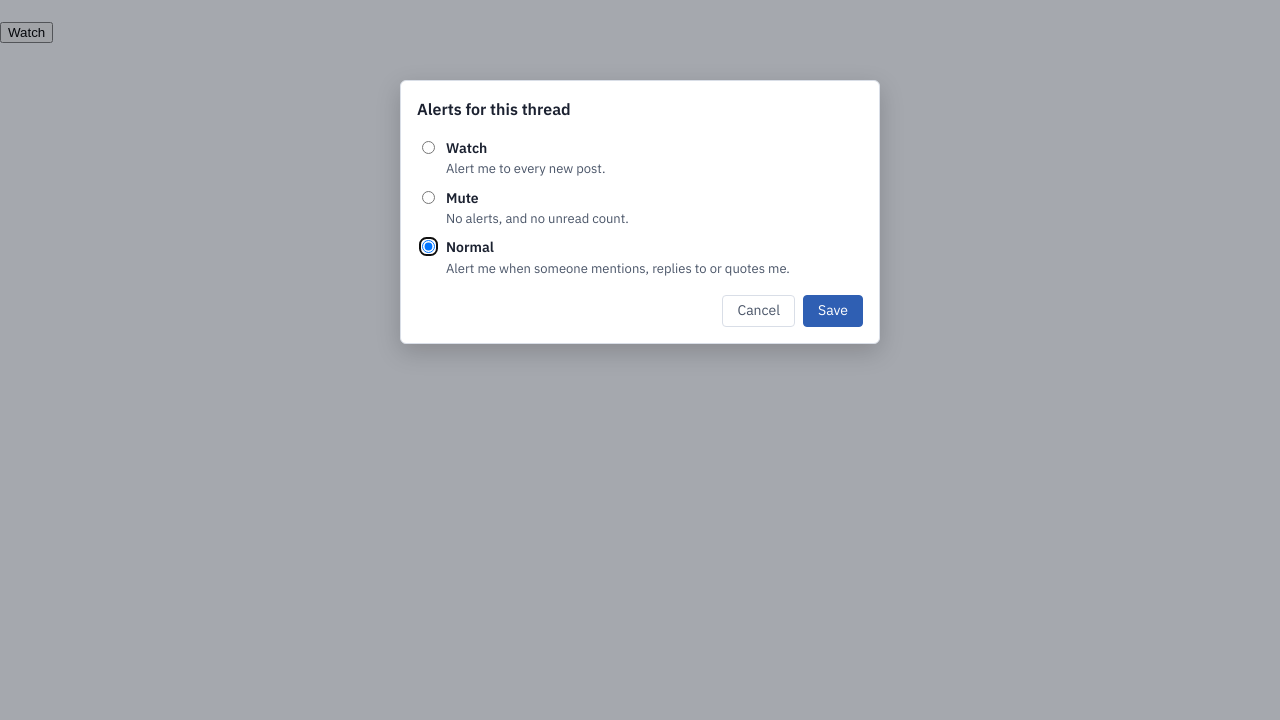
the watch dialog › shows a refusal and stays open as chosen
Click the radio button labelled "Watch Alert me to every new post.": click(428, 147) [422,141,435,154]
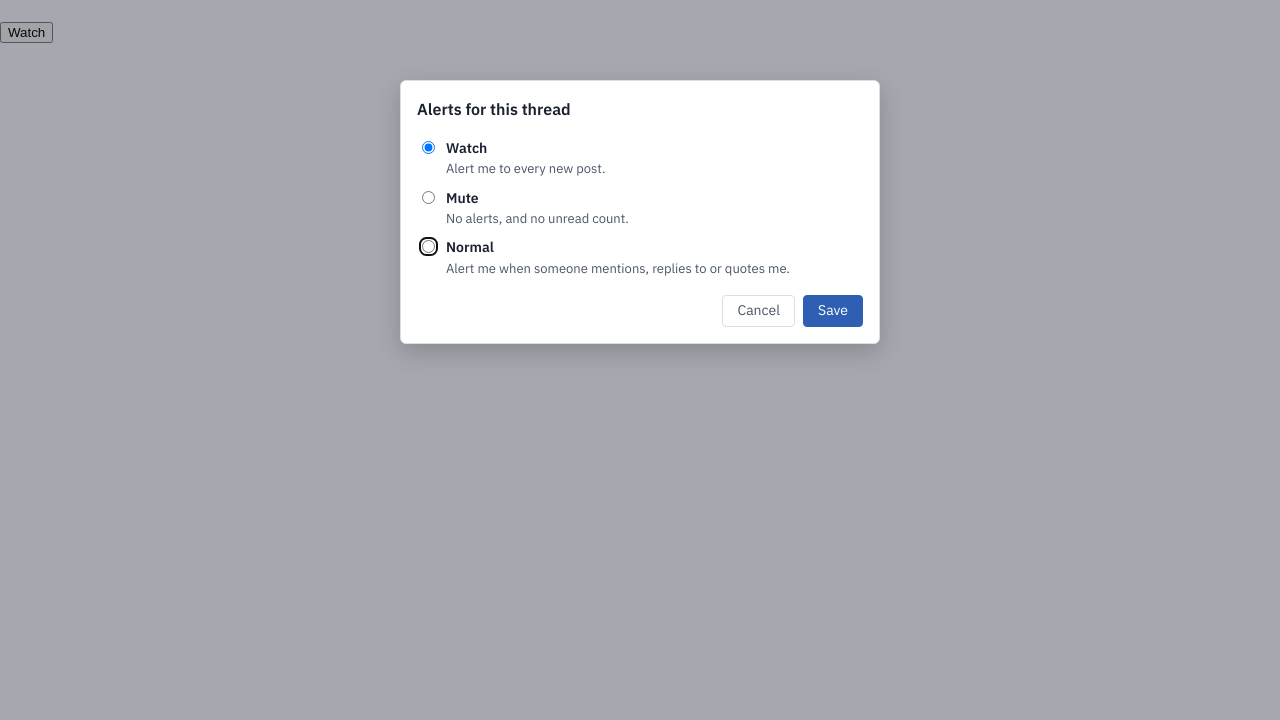
Click the submit button: click(833, 311) [803,295,863,327]
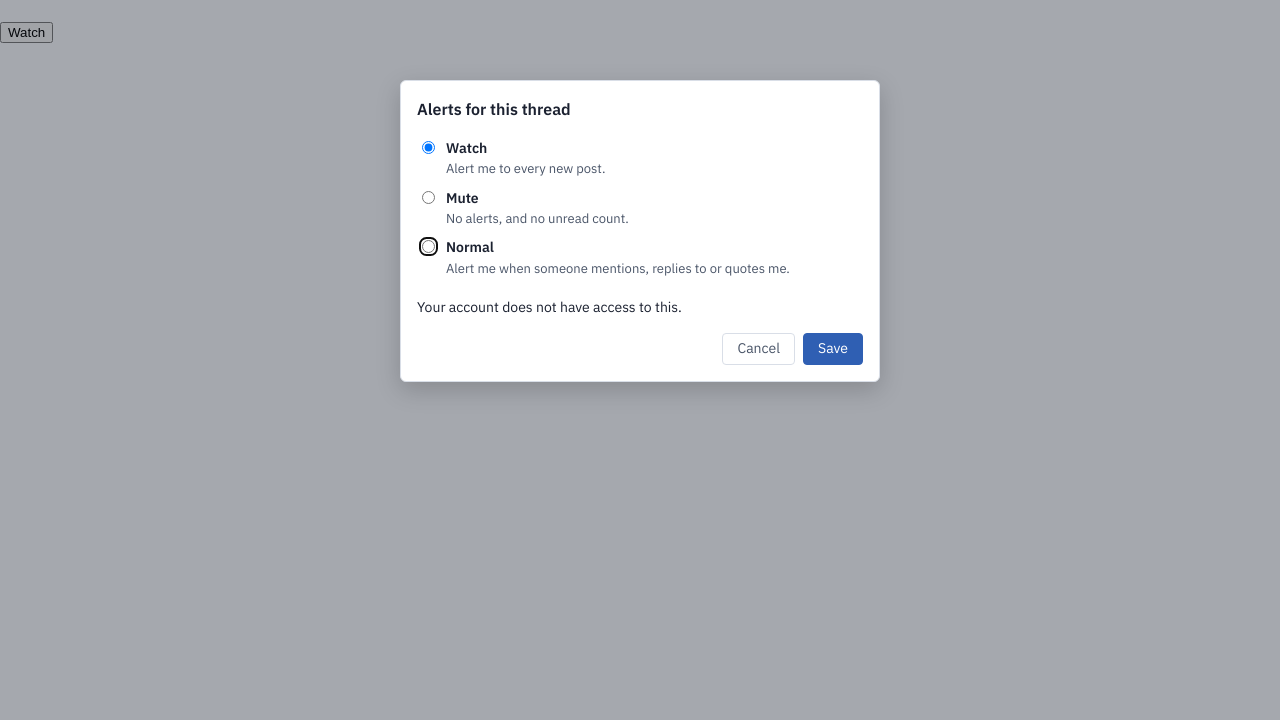
Check: the radio button labelled "Watch Alert me to every new post." is checked, box [422,141,435,154]
Check: the message "Your account does not have access to this." is shown, box [417,298,682,316]
